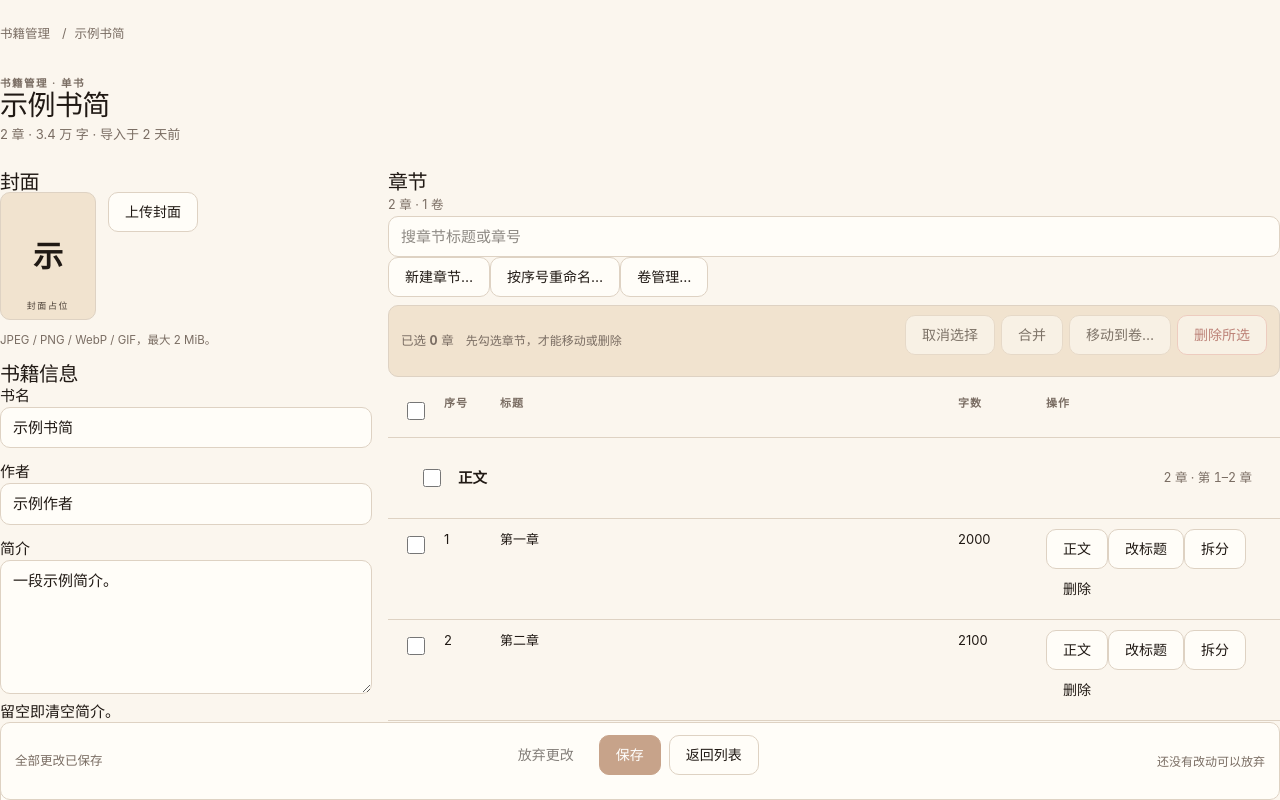
it: 单书管理页 › 有未保存改动时返回列表先拦一次，选「留下」后焦点回「返回列表」
The image size is (1280, 800).
Replace the text in the field with test id "admin-title" with "改了一半" at (186, 428), box 0,407 -> 372,448
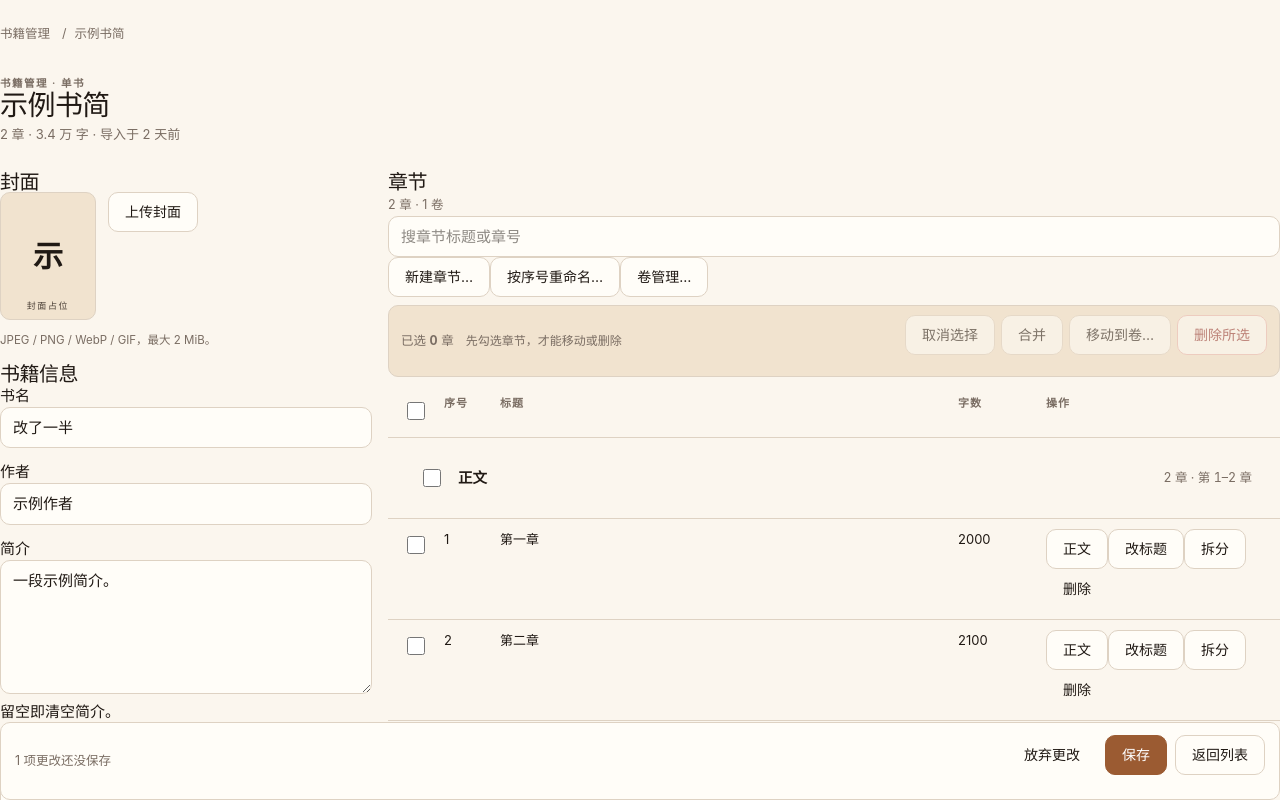
Click the button with test id "admin-back" at (1220, 755), box 1175,735 -> 1265,775
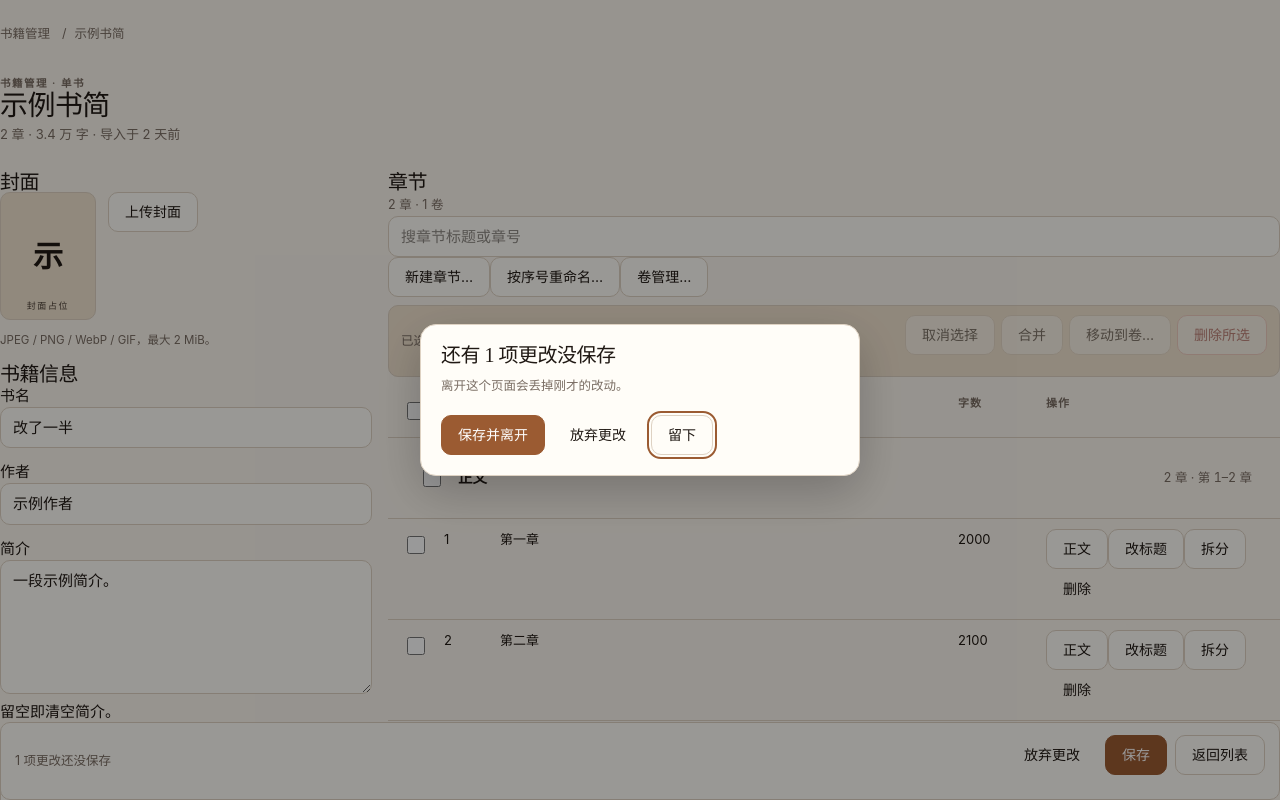
Expected: the heading "还有 1 项更改没保存" is shown, 441,344 -> 616,366
Expected: the button with test id "leave-stay" reads "留下"
Click the button with test id "leave-stay" at (682, 435), box 651,415 -> 713,455
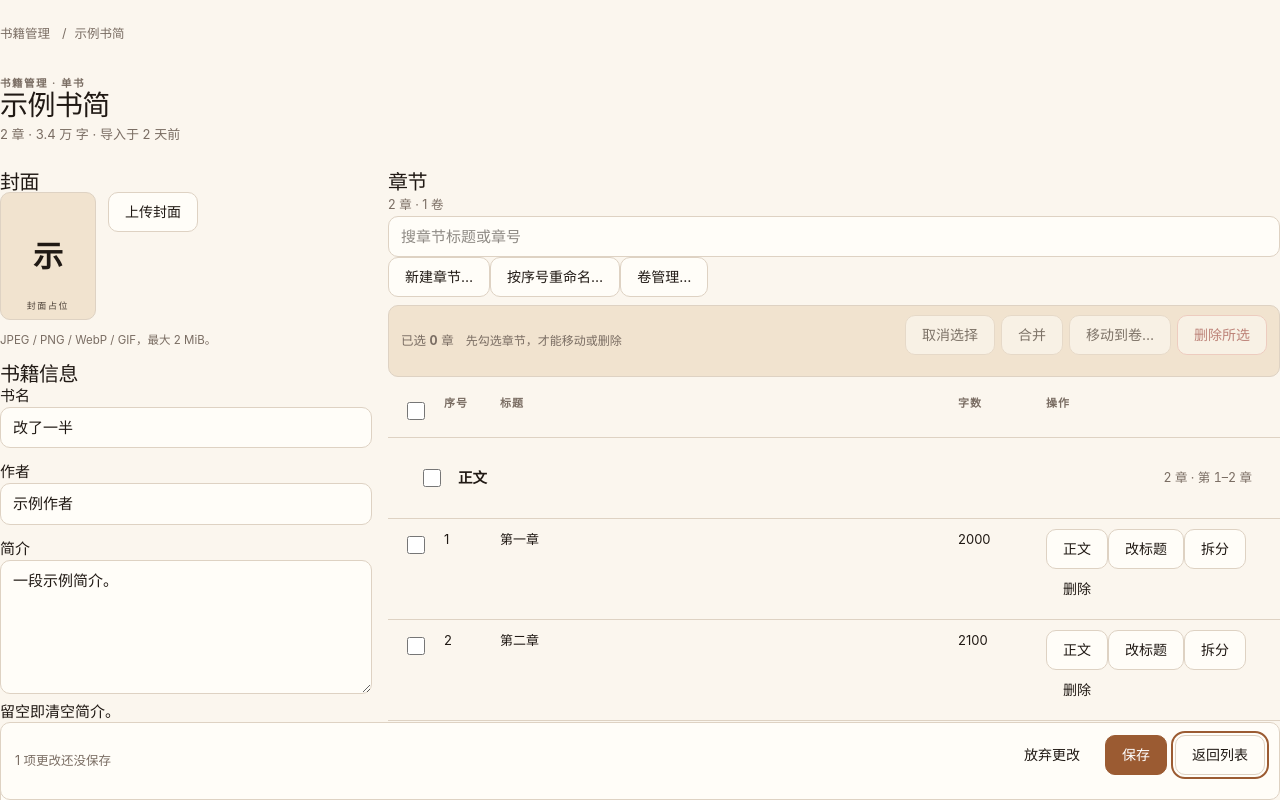
Expected: the heading "还有 1 项更改没保存" is gone
